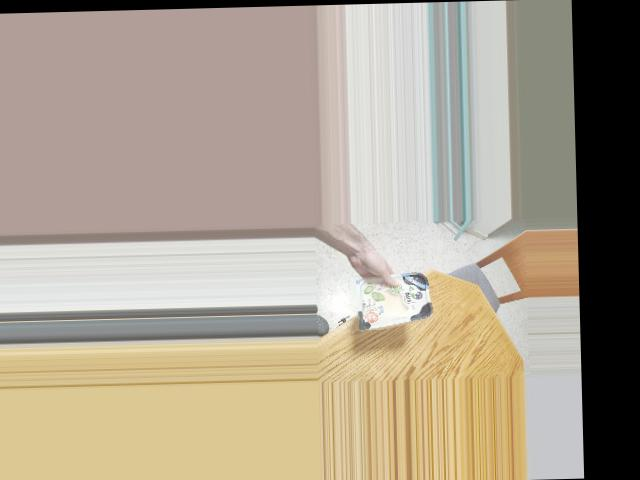cheese: (355, 262, 430, 331)
